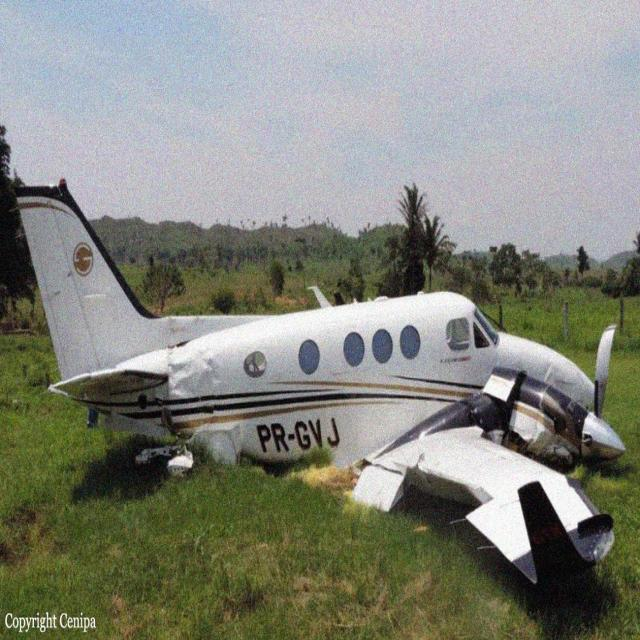dent: (164, 346, 233, 424)
